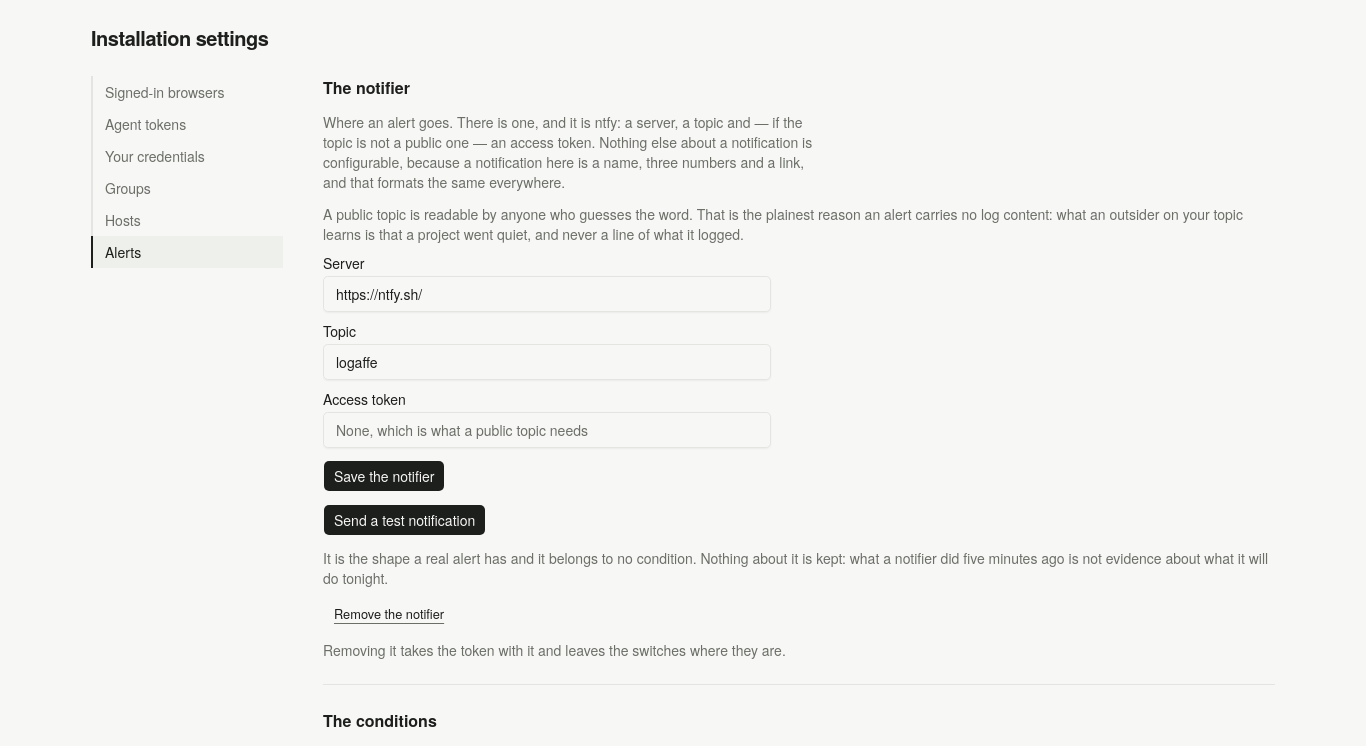
the alerts area › says which of the four ways a test send went
Step 1. Click the button "Send a test notification" → (405,520), box [323,504,486,536]
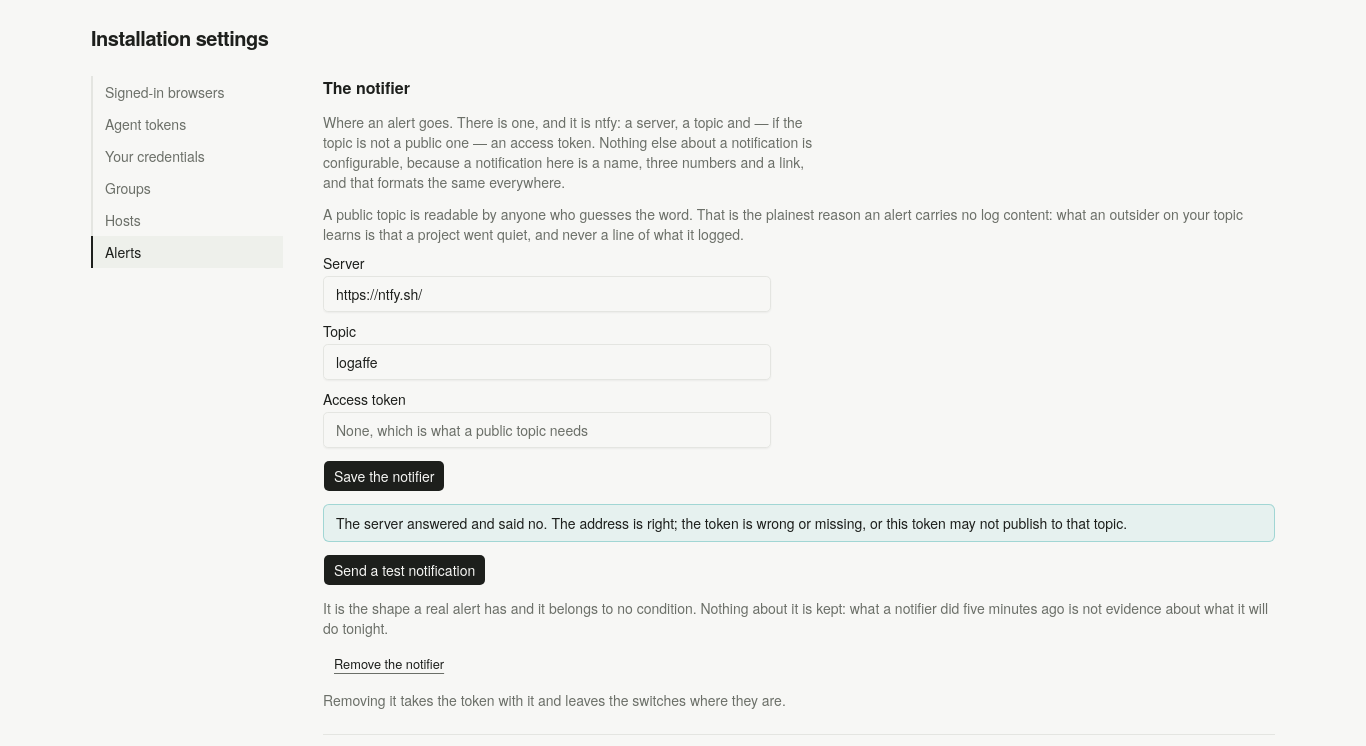
Expected: the text "The server answered and said no" is shown, [336,513,1127,533]
